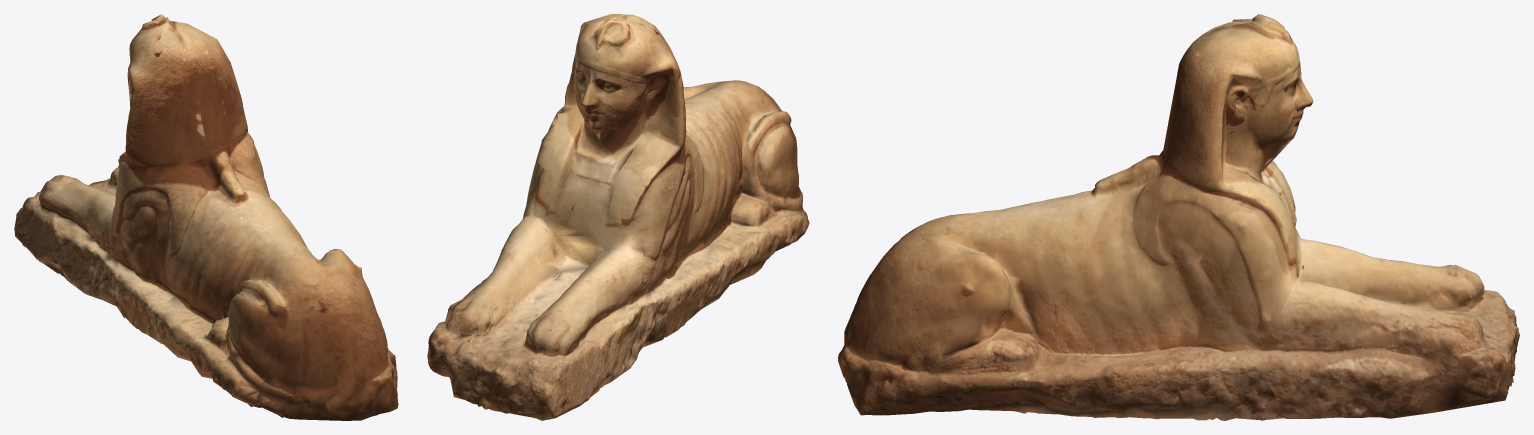
Rendered from esfinge_avenida.glb.
3 renders of one model, left to right at view 1: azimuth 30°, elevation 25°; view 2: azimuth 150°, elevation 25°; view 3: azimuth 270°, elevation 25°, orthographic. The views are drawn at different scales.
Visible parts, largest first — view 1: Object_2; view 2: Object_2; view 3: Object_2.
Boxes of the visible parts, x1,y1,x2,y2 form: Object_2: [14, 14, 398, 420]; Object_2: [427, 14, 809, 420]; Object_2: [838, 14, 1519, 420].
Bounding box in the file's own units: 8.85 × 16.6 × 28.91.
Materials: 1 (1 with a texture image).
